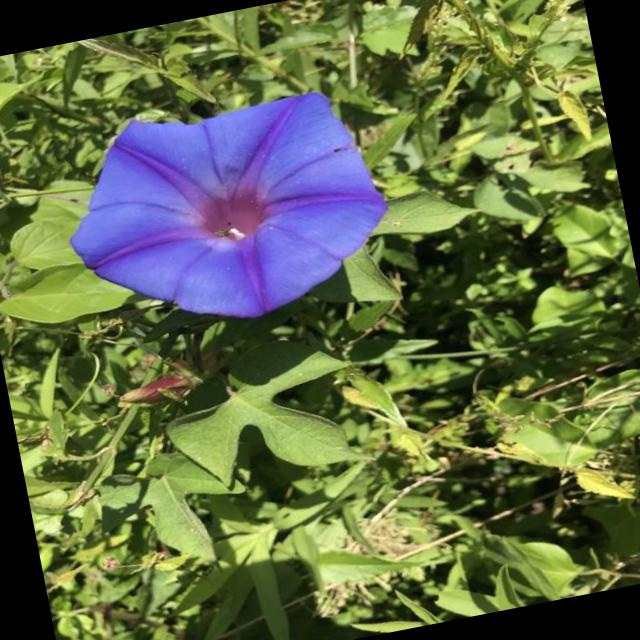ipomoea: (45, 71, 407, 352)
